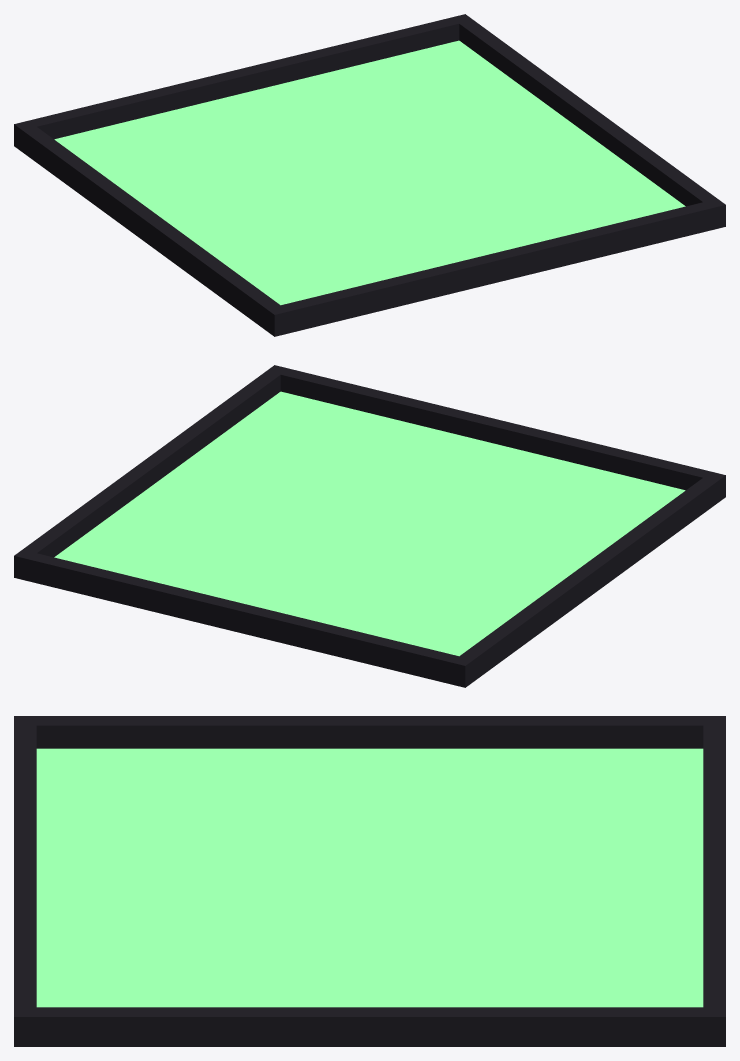
File: OO_TileGreen.fbx
3 renders of one model, top to bottom at view 1: azimuth 30°, elevation 25°; view 2: azimuth 150°, elevation 25°; view 3: azimuth 270°, elevation 25°, orthographic. The views are drawn at different scales.
Visible parts, largest first — view 1: Tile_Green; view 2: Tile_Green; view 3: Tile_Green.
Boxes of the visible parts, x1,y1,x2,y2 form: Tile_Green: [14, 14, 725, 336]; Tile_Green: [14, 365, 725, 687]; Tile_Green: [14, 716, 725, 1046].
Size of the model in its own units: 200 by 9.3 by 200.
